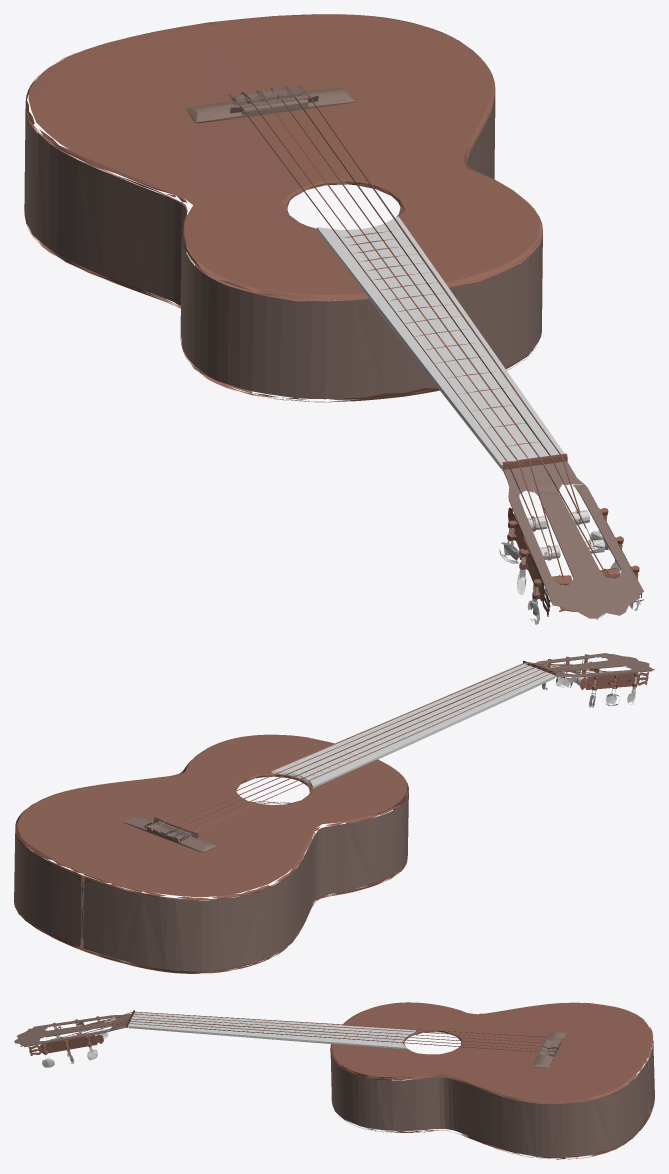
The model's file is f4a5abbf-f0ee-4761-84e0-c3d2987d7704.glb.
3 renders of one model, top to bottom at view 1: azimuth 30°, elevation 25°; view 2: azimuth 150°, elevation 25°; view 3: azimuth 270°, elevation 25°, orthographic. The views are drawn at different scales.
Parts seen in each view (by area): view 1: objdefault001; view 2: objdefault001; view 3: objdefault001.
Part boxes in pixels (<box>): objdefault001: <box>24,14,643,624</box>; objdefault001: <box>14,653,654,973</box>; objdefault001: <box>14,1002,654,1159</box>.
Size of the model in its own units: 80201 by 21964 by 200941.
